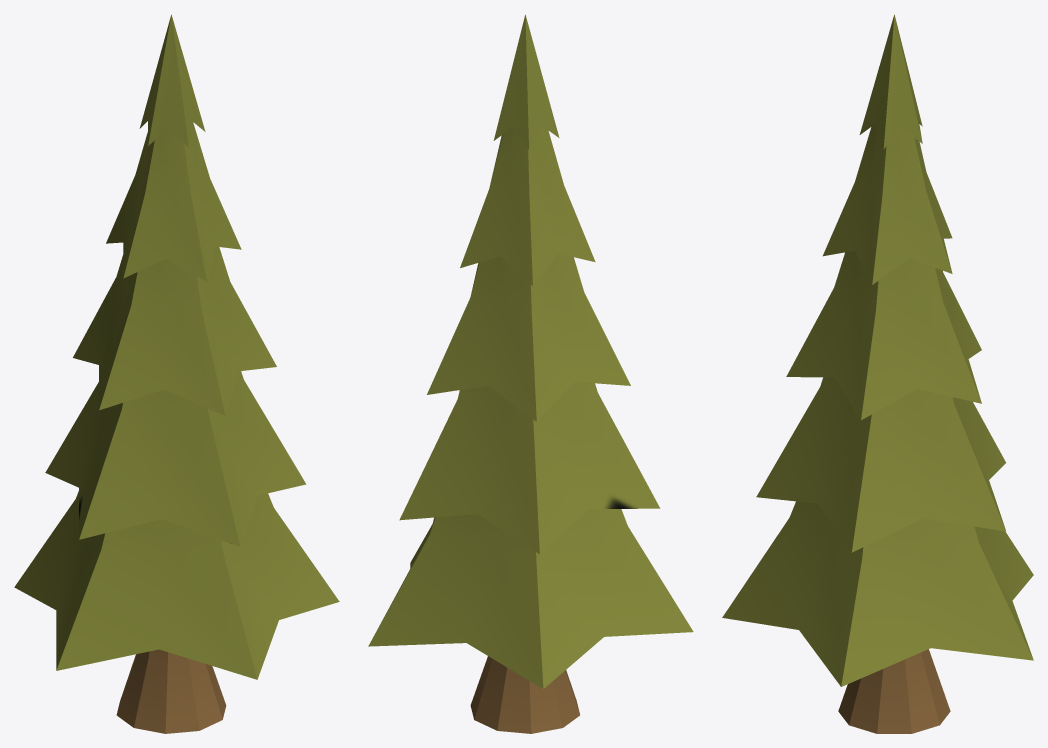
Rendered from Model-tree01.fbx.
The picture shows the model from 3 angles, left to right: view 1: azimuth 30°, elevation 25°; view 2: azimuth 150°, elevation 25°; view 3: azimuth 270°, elevation 25°; orthographic projection.
Parts seen in each view (by area): view 1: tree01; view 2: tree01; view 3: tree01.
Part boxes in pixels (<box>): tree01: <box>14,14,339,733</box>; tree01: <box>368,14,693,733</box>; tree01: <box>722,14,1033,733</box>.
Size of the model in its own units: 4.6 by 10.8 by 4.38.
